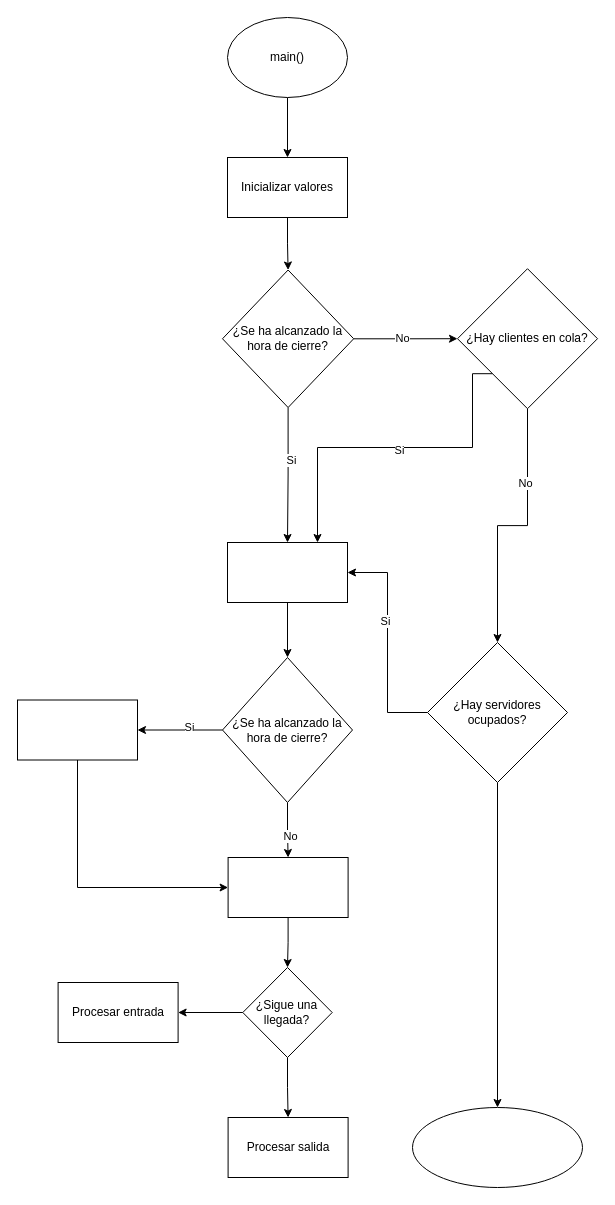
Image size: 615x1205. Some labels were removed from this diagram. Here are the shapes that lost their labels. From the top down, the centre of each, then its label:
the point at 287,572: Revisar próximo evento
the point at 77,729: Cerrar tienda Próxima salida en el infinito
the point at 287,887: Actualizar estadísticas
the point at 497,1147: Generar reporte
